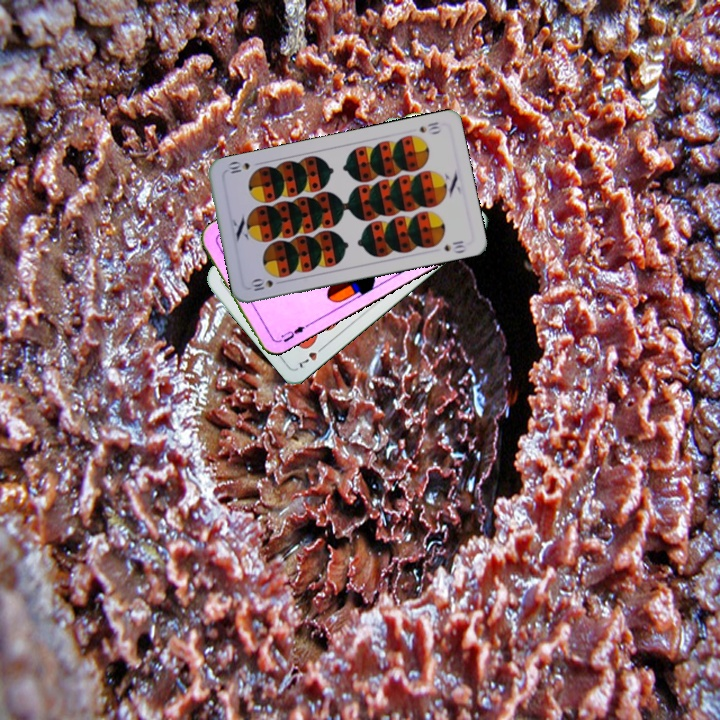EU: (277, 321, 309, 345)
H7: (293, 341, 328, 371)
S10: (246, 276, 276, 294), (415, 118, 444, 136)
